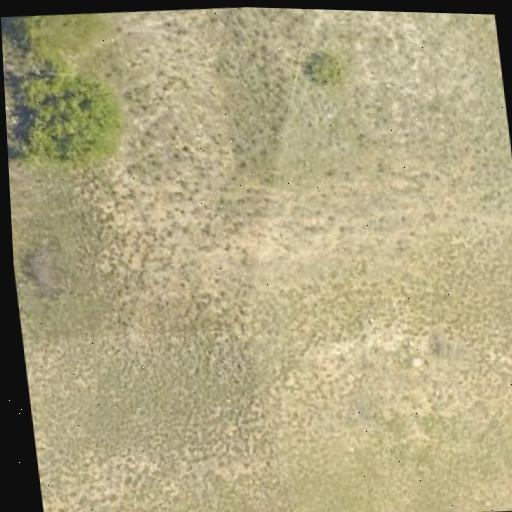tree-top: (3, 56, 138, 170), (0, 9, 122, 71), (302, 44, 349, 89)
